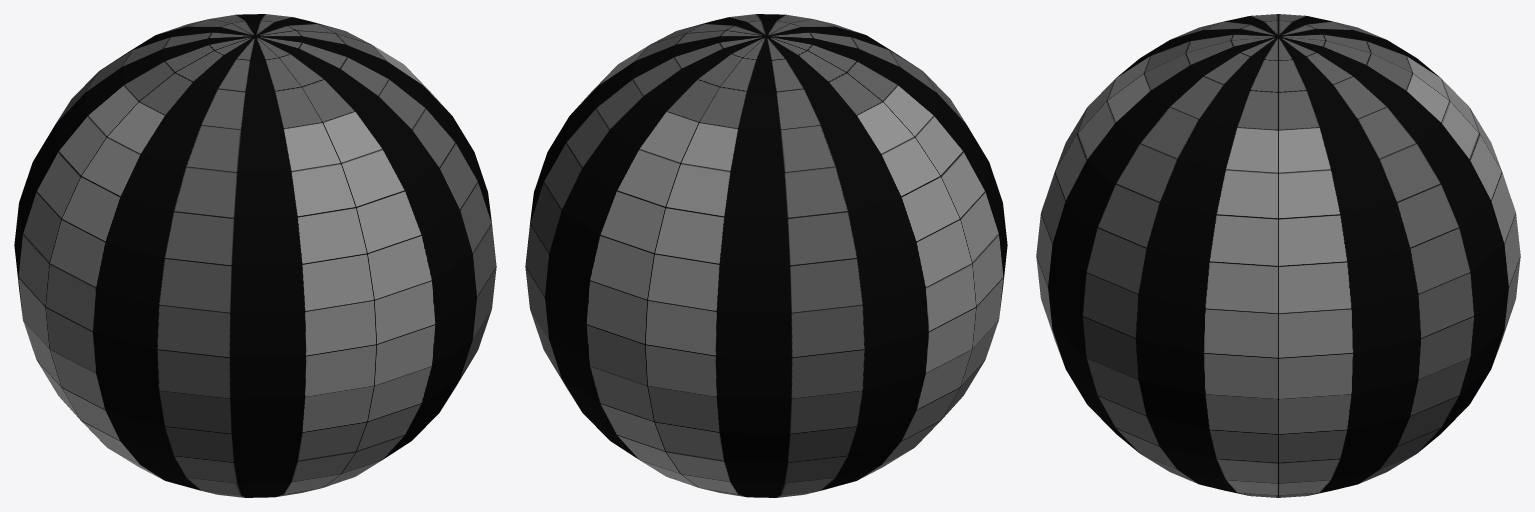
The model's file is Blue Ball.fbx.
3 views of the same model, side by side, from view 1: azimuth 30°, elevation 25°; view 2: azimuth 150°, elevation 25°; view 3: azimuth 270°, elevation 25° (orthographic).
Visible parts, largest first — view 1: Ball; view 2: Ball; view 3: Ball.
Part boxes in pixels (x1,y1,x2,y2): Ball: [14, 14, 496, 497]; Ball: [525, 14, 1007, 497]; Ball: [1036, 14, 1520, 497].
Bounding box in the file's own units: 34.21 × 34.21 × 34.21.
